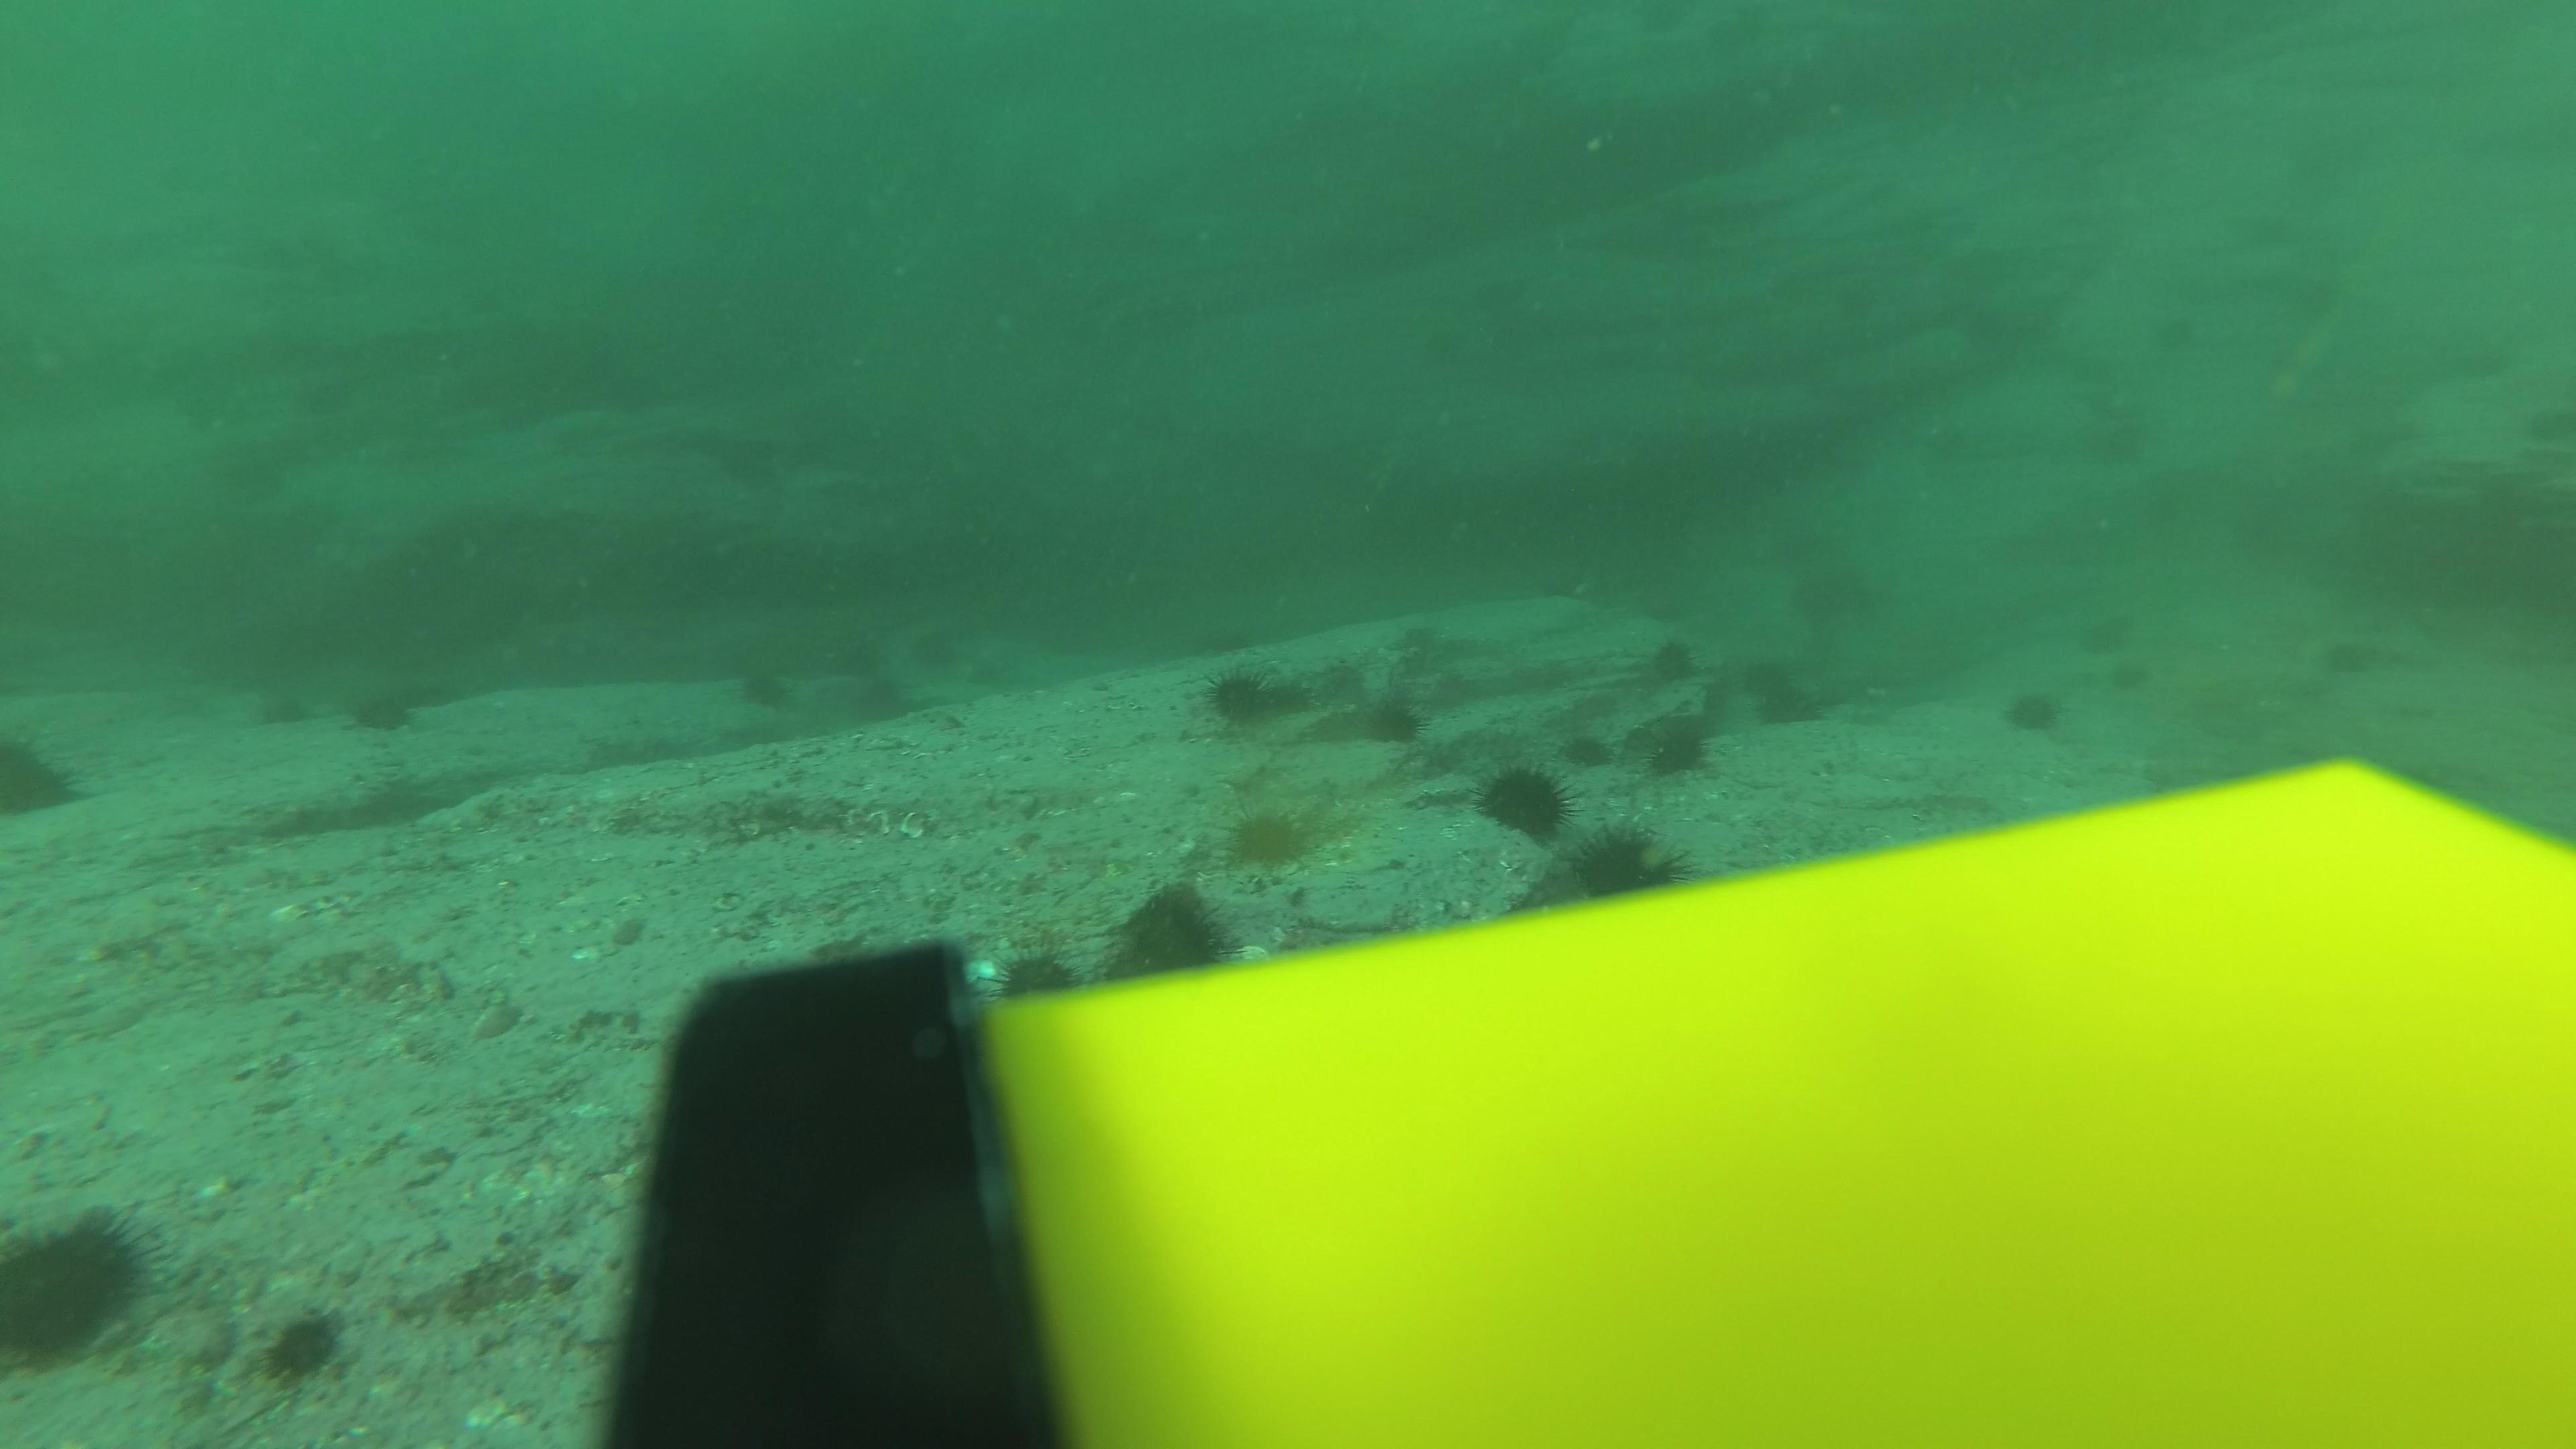echinus: (0, 1203, 156, 1368), (1099, 879, 1242, 985), (1555, 819, 1688, 909), (1472, 755, 1576, 846), (1219, 796, 1332, 878), (1194, 658, 1307, 738), (0, 727, 87, 824), (1631, 704, 1723, 786), (341, 678, 426, 740), (996, 945, 1086, 1001), (1361, 685, 1431, 752), (1999, 679, 2070, 740), (1757, 686, 1828, 732), (1644, 630, 1702, 685), (860, 678, 913, 725), (908, 623, 961, 671), (1798, 577, 1854, 621), (738, 669, 791, 715), (1737, 660, 1792, 701), (1559, 727, 1614, 766), (255, 688, 310, 727), (961, 655, 1008, 694), (830, 640, 878, 679), (2081, 619, 2127, 658), (2104, 660, 2150, 699), (2098, 423, 2144, 462), (1927, 425, 1973, 464), (2330, 639, 2376, 678), (2150, 322, 2196, 361), (1780, 533, 1822, 563)
